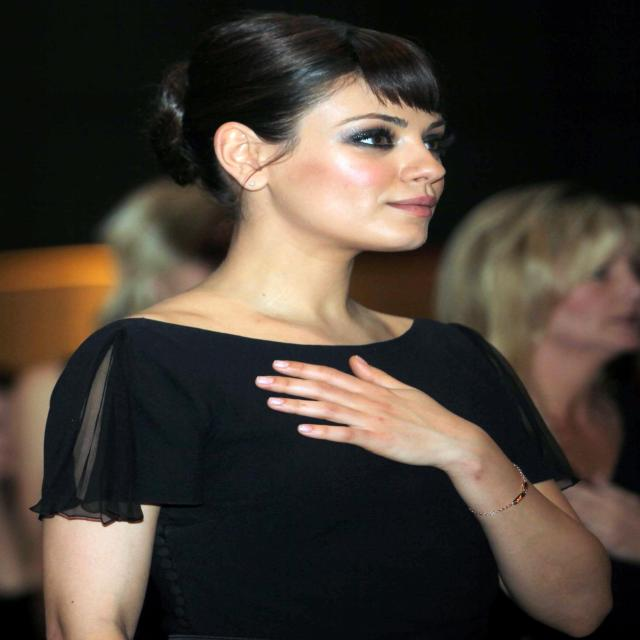no-earmuff: (175, 110, 294, 215)
